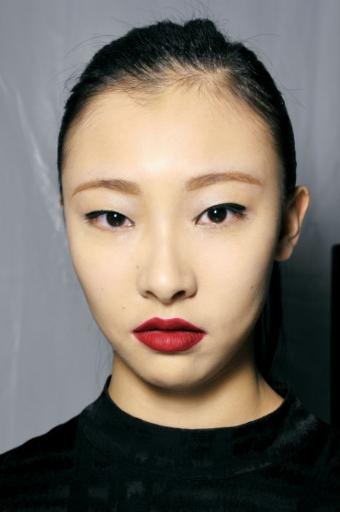left_eye: (193, 201, 251, 234)
left_lip_corner: (199, 323, 213, 344)
right_eye: (84, 209, 139, 237)
right_lip_corner: (128, 325, 144, 345)
